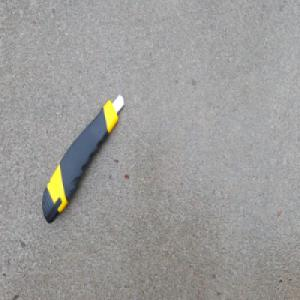Cutter: (41, 91, 125, 224)
